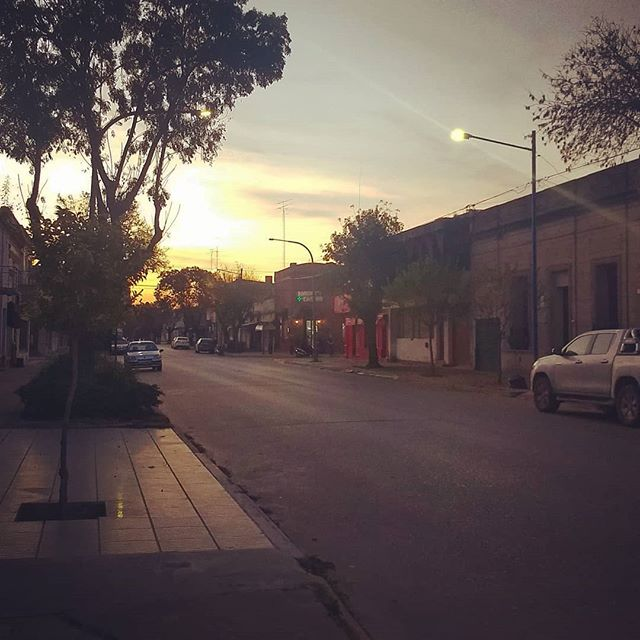building: (344, 151, 640, 374), (269, 254, 346, 357)
car: (534, 332, 640, 419), (125, 341, 171, 372)
sky: (166, 1, 565, 235)
street: (142, 344, 640, 640)
tree: (1, 3, 301, 545), (526, 10, 640, 172)
